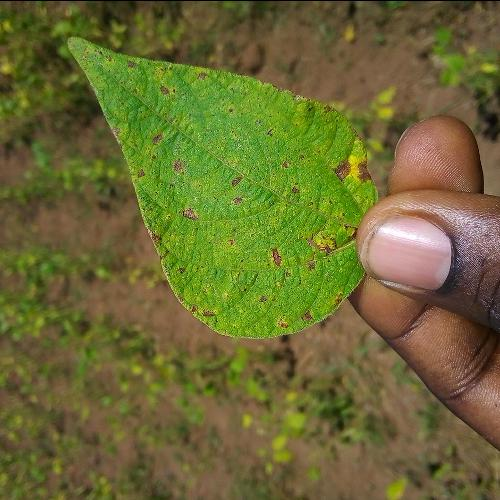hawar: (154, 91, 388, 339)
